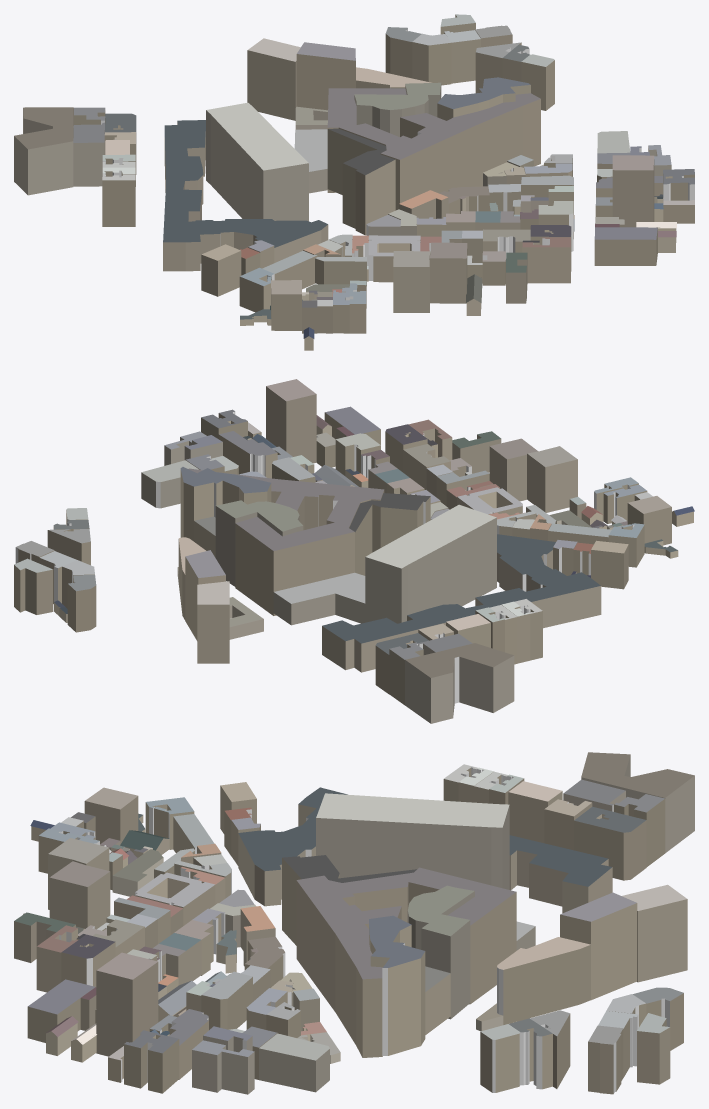
3 views of the same model, one above another, from view 1: azimuth 30°, elevation 25°; view 2: azimuth 150°, elevation 25°; view 3: azimuth 270°, elevation 25° (orthographic). The views are drawn at different scales.
Visible parts, largest first — view 1: tuile; view 2: tuile; view 3: tuile.
Boxes of the visible parts, box(x1,y1,x2,y2) form: tuile: box(14, 14, 694, 350); tuile: box(14, 379, 694, 723); tuile: box(14, 752, 694, 1094).
Bounding box in the file's own units: 276 × 40.88 × 274.
